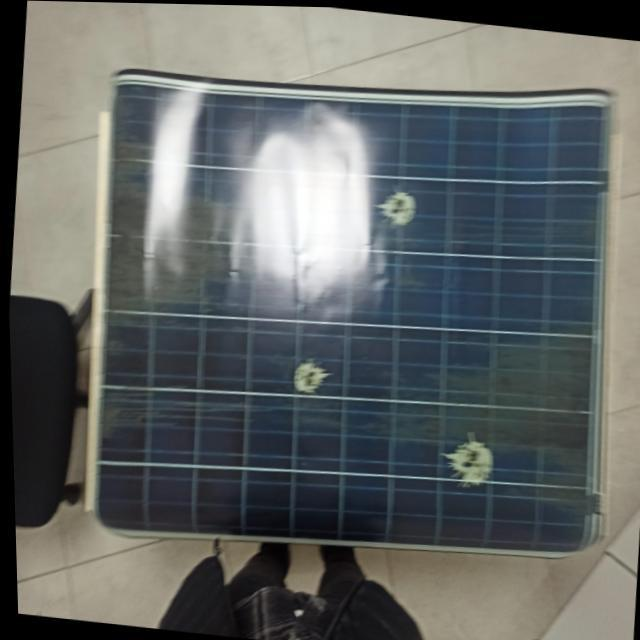faulty: (103, 87, 608, 537)
